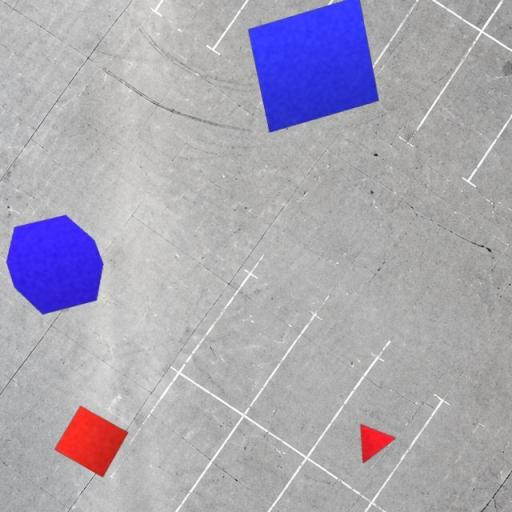BLUE_SQUARE: (247, 0, 380, 134)
RED_SQUARE: (54, 405, 128, 478)
